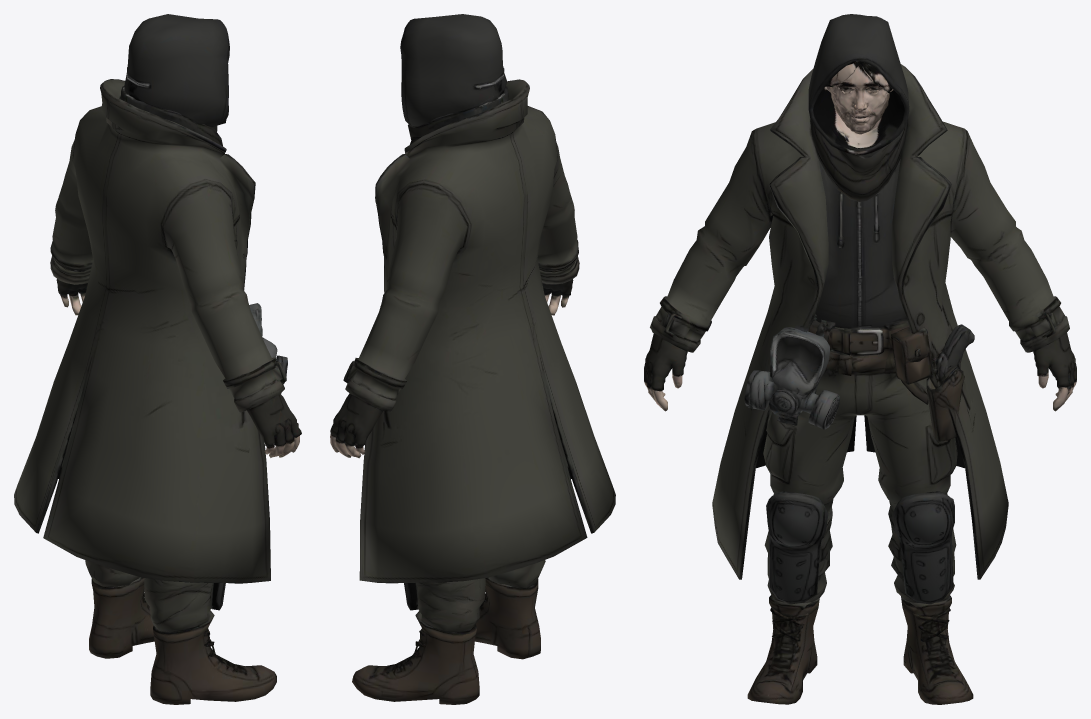
3 views of the same model, side by side, from view 1: azimuth 30°, elevation 25°; view 2: azimuth 150°, elevation 25°; view 3: azimuth 270°, elevation 25° (orthographic). The views are drawn at different scales.
Parts seen in each view (by area): view 1: tripo_node_8ea7bac6-e96b-4c75-a338-9233963a0f5c; view 2: tripo_node_8ea7bac6-e96b-4c75-a338-9233963a0f5c; view 3: tripo_node_8ea7bac6-e96b-4c75-a338-9233963a0f5c.
Boxes of the visible parts, x1,y1,x2,y2 form: tripo_node_8ea7bac6-e96b-4c75-a338-9233963a0f5c: [14, 14, 301, 704]; tripo_node_8ea7bac6-e96b-4c75-a338-9233963a0f5c: [330, 14, 615, 704]; tripo_node_8ea7bac6-e96b-4c75-a338-9233963a0f5c: [644, 14, 1076, 704].
Bounding box in the file's own units: 0.3457 × 0.998 × 0.5957.
1 material, 1 textured.
